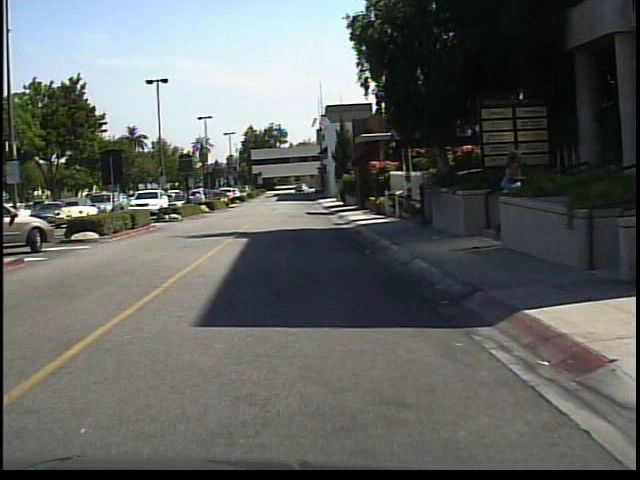person: (495, 142, 530, 246)
